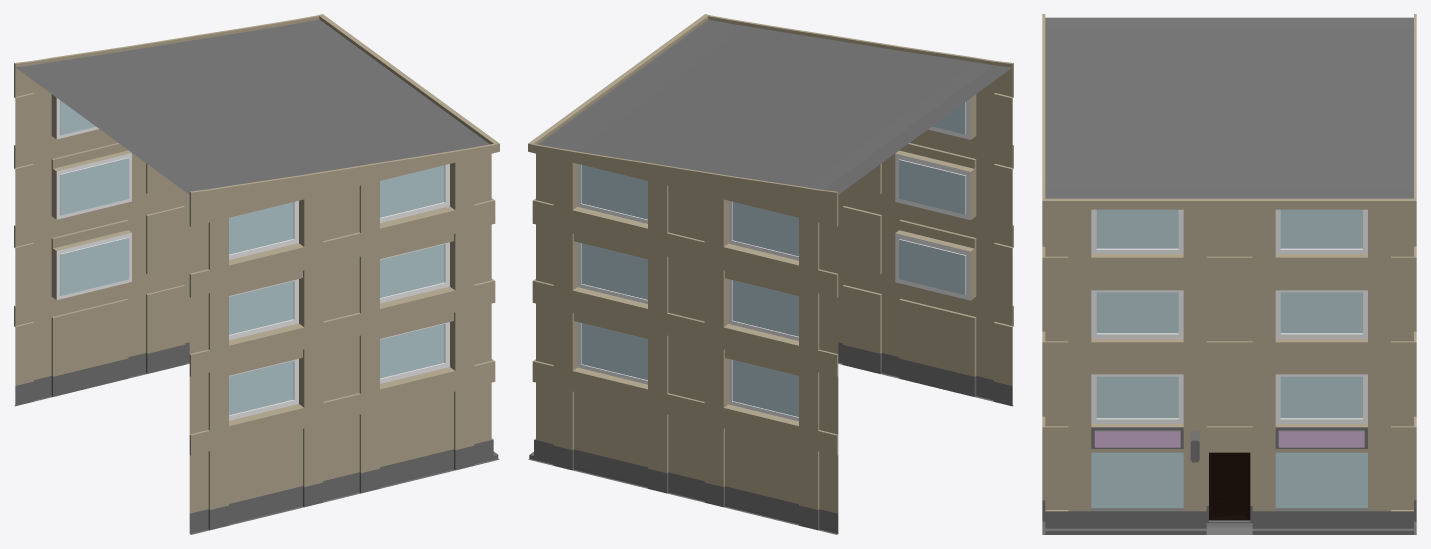
The model's file is Storefront_Apartment_angled_roof.fbx.
The picture shows the model from 3 angles, left to right: view 1: azimuth 30°, elevation 25°; view 2: azimuth 150°, elevation 25°; view 3: azimuth 270°, elevation 25°; orthographic projection. The views are drawn at different scales.
Visible parts, largest first — view 1: Storefront_House; view 2: Storefront_House; view 3: Storefront_House.
Boxes of the visible parts, <box> form: Storefront_House: <box>14,14,499,534</box>; Storefront_House: <box>528,14,1013,534</box>; Storefront_House: <box>1042,14,1416,534</box>.
Bounding box in the file's own units: 2188 × 2166 × 2031.
